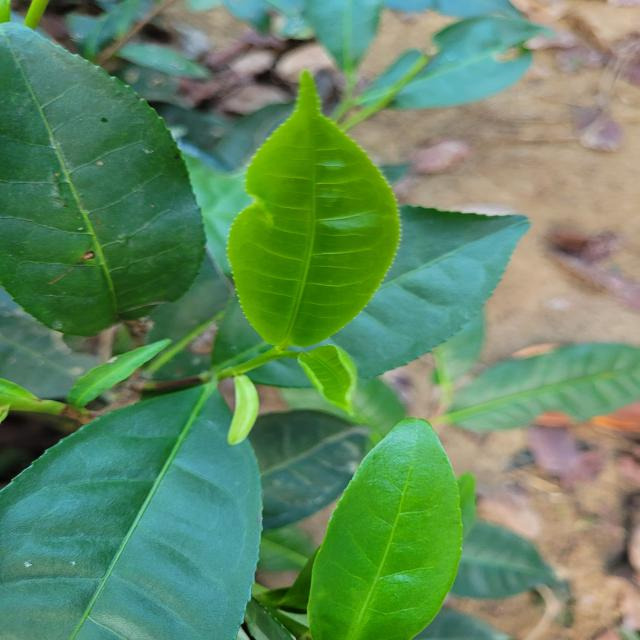Catagory A(1-2 days): (218, 67, 440, 356)
